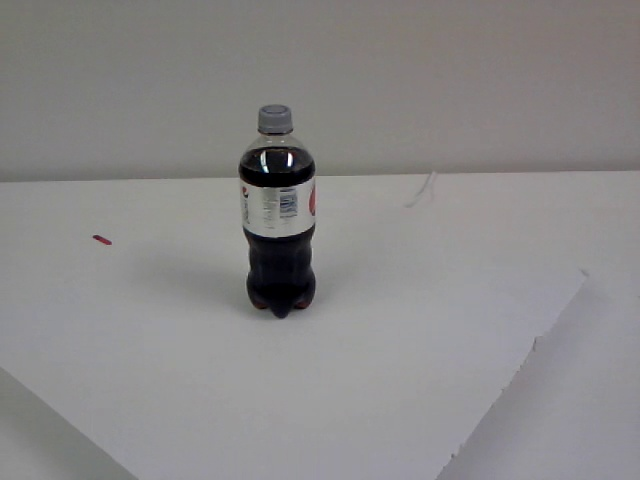botolplastik: (239, 105, 315, 318)
